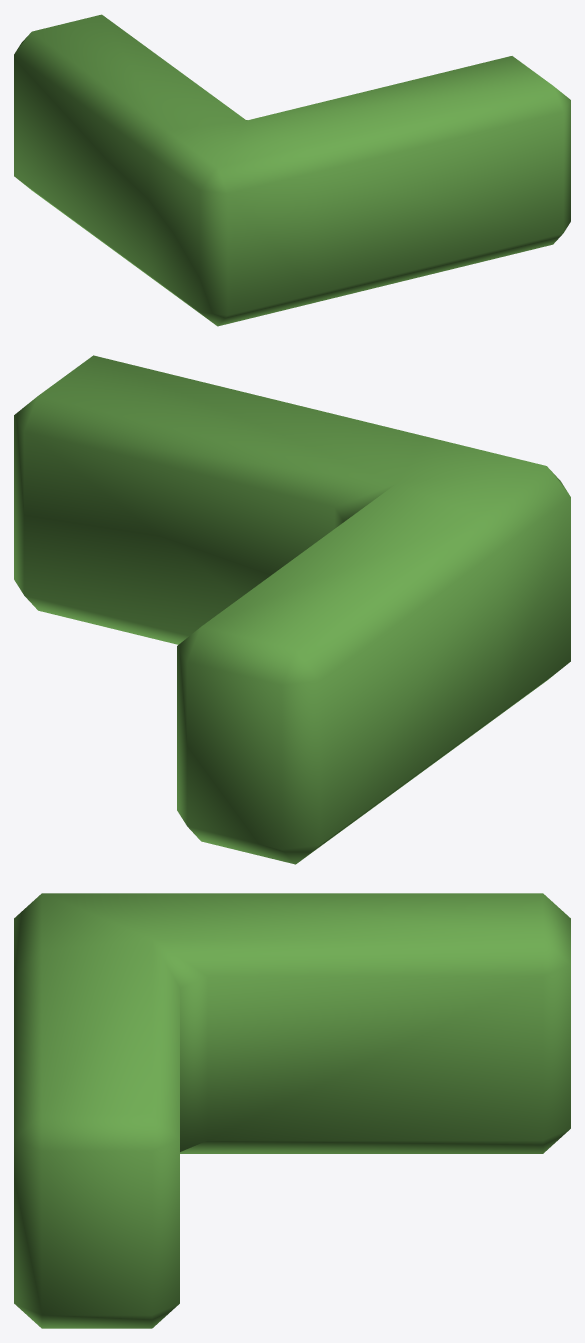
File: Grass_Cube_Corner.fbx
The picture shows the model from 3 angles, top to bottom: view 1: azimuth 30°, elevation 25°; view 2: azimuth 150°, elevation 25°; view 3: azimuth 270°, elevation 25°; orthographic projection. The views are drawn at different scales.
Visible parts, largest first — view 1: Plane.176; view 2: Plane.176; view 3: Plane.176.
Boxes of the visible parts, box(x1,y1,x2,y2) form: Plane.176: box(14, 14, 570, 326); Plane.176: box(14, 355, 570, 864); Plane.176: box(14, 893, 570, 1328).
Size of the model in its own units: 519 by 212 by 499.
